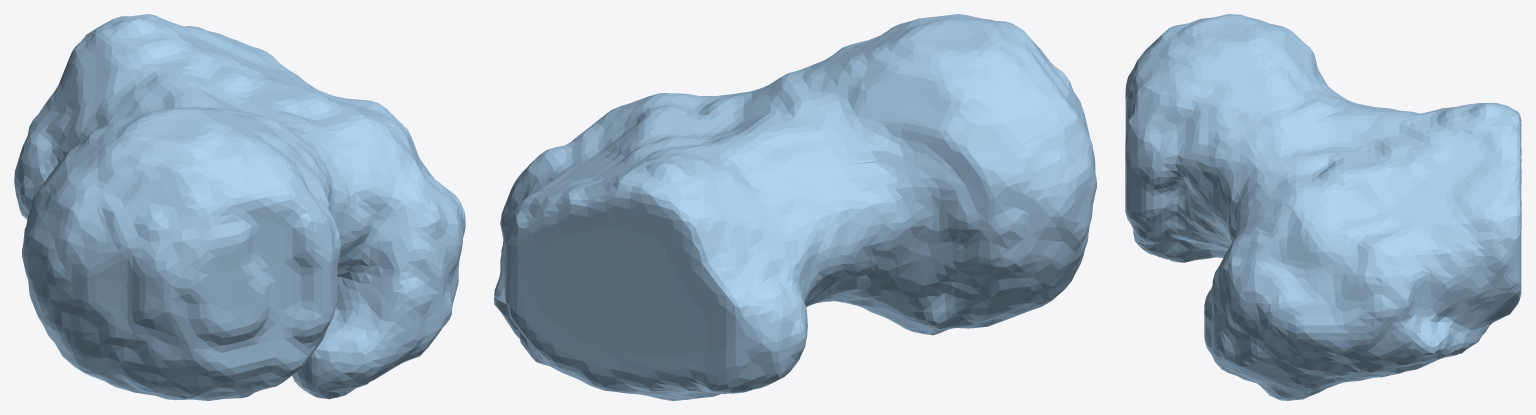
3 views of the same model, side by side, from view 1: azimuth 30°, elevation 25°; view 2: azimuth 150°, elevation 25°; view 3: azimuth 270°, elevation 25° (orthographic). The views are drawn at different scales.
Parts seen in each view (by area): view 1: world; view 2: world; view 3: world.
Part boxes in pixels (<box>): world: <box>14,14,465,400</box>; world: <box>494,14,1096,400</box>; world: <box>1125,14,1521,400</box>.
Bounding box in the file's own units: 0.8785 × 0.6128 × 0.7849.
